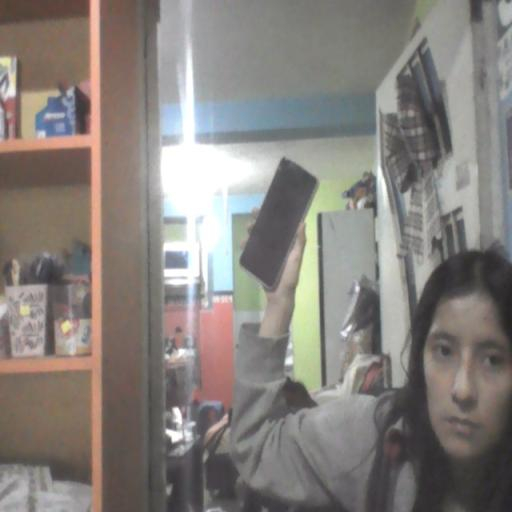phone: (241, 156, 324, 298)
